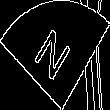N_SW: (32, 23, 78, 87)
